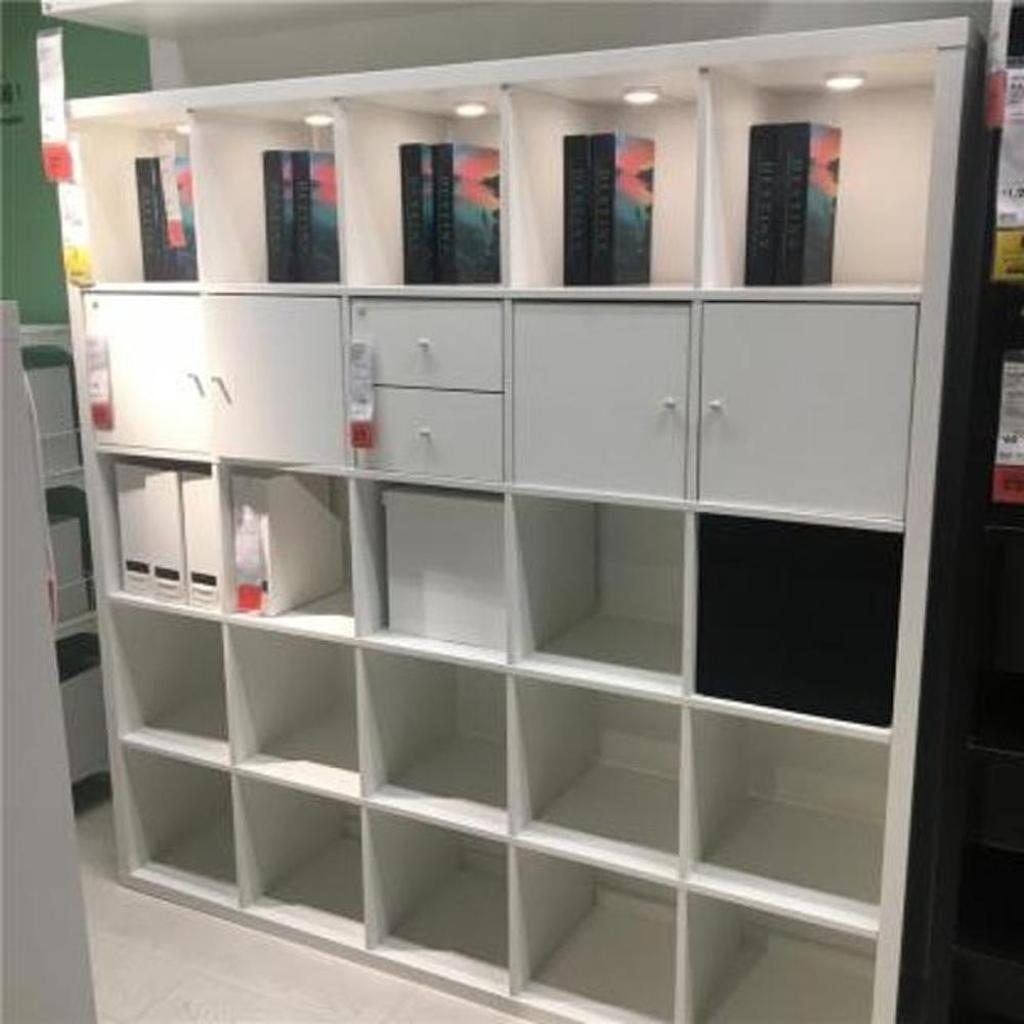lamp: (46, 18, 993, 1023)
